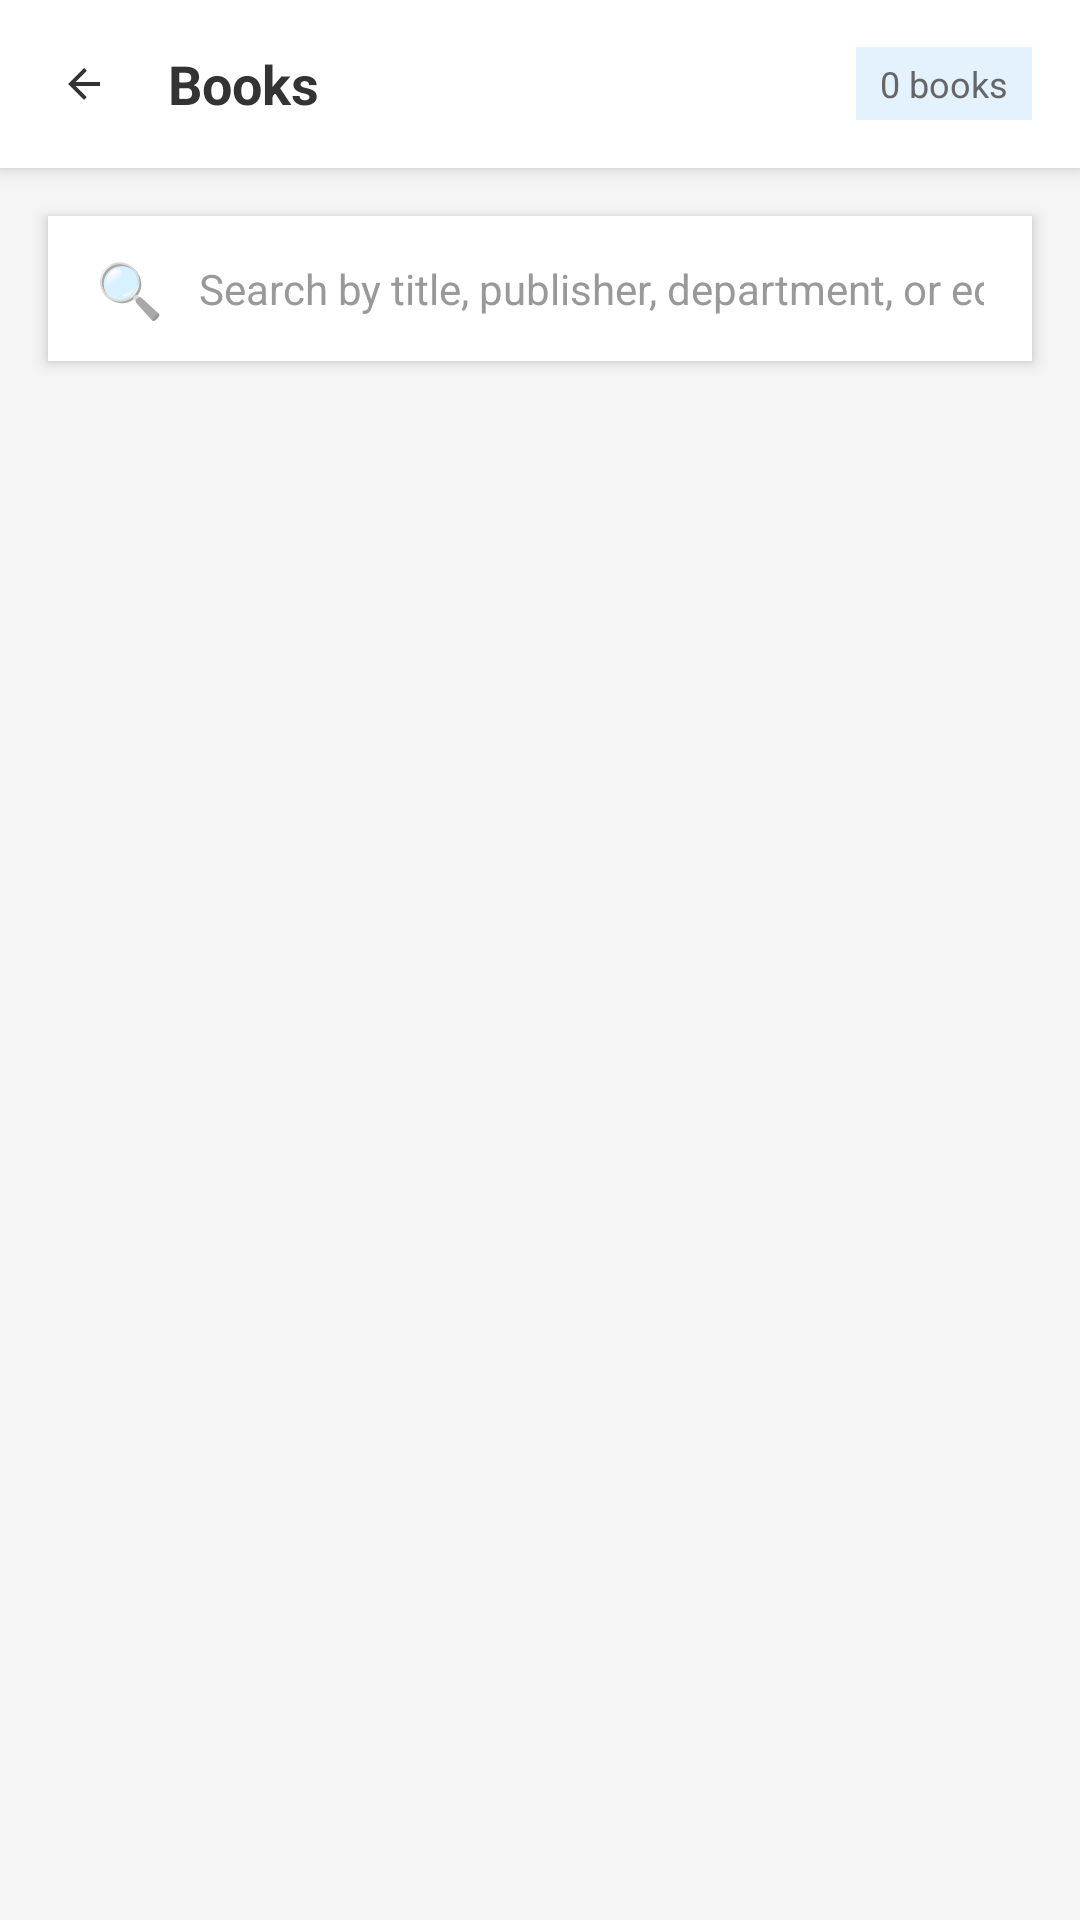

Icon bounding boxes for this 1080 x 1920 phone screenshot, format box=[x1, y1, x2, y2]:
back: box=[68, 68, 100, 100]
